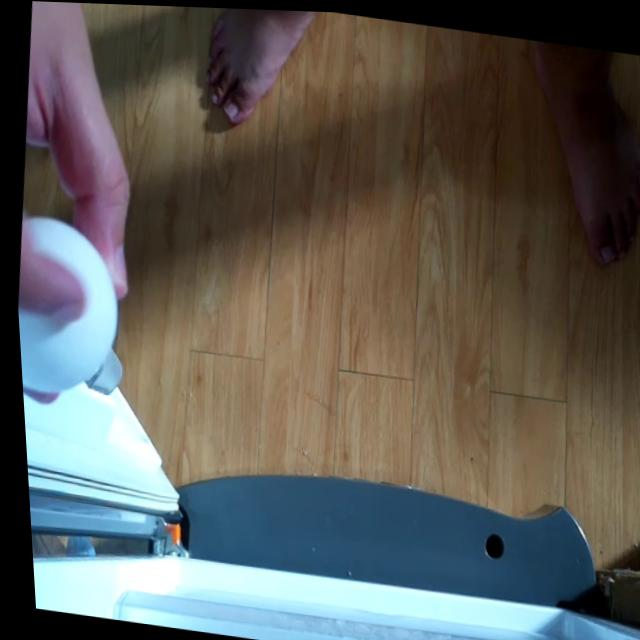egg: (10, 209, 122, 400)
